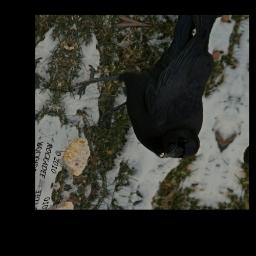Crow: (61, 18, 227, 164)
